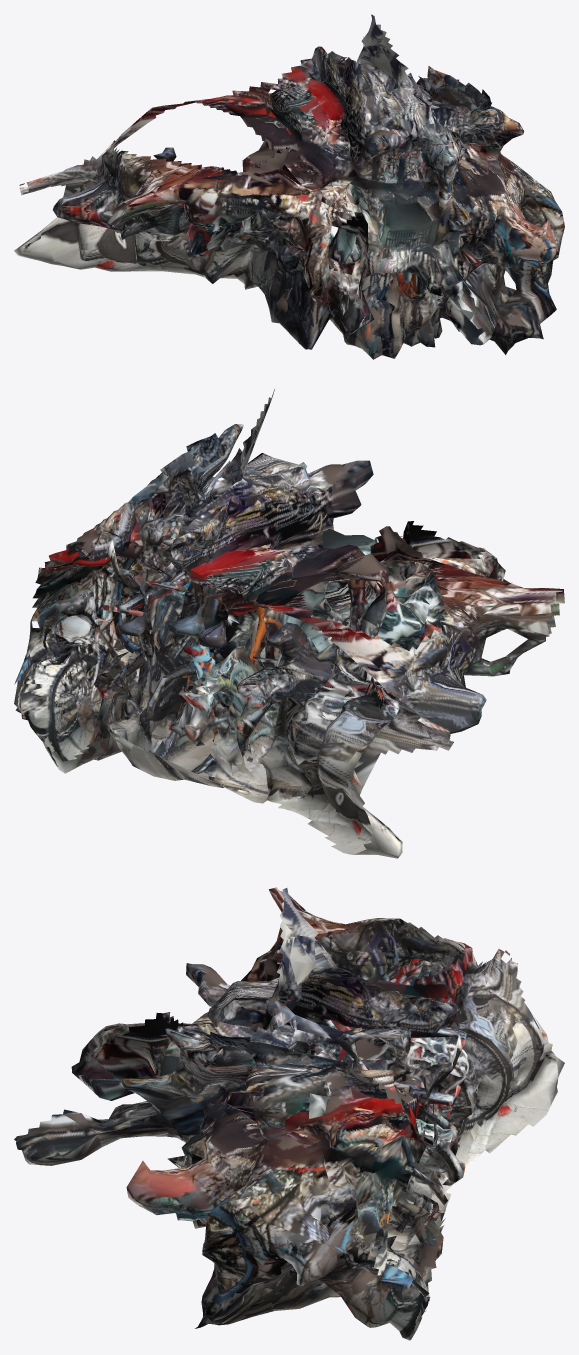
Rendered from S026_BikeRack.glb.
3 views of the same model, one above another, from view 1: azimuth 30°, elevation 25°; view 2: azimuth 150°, elevation 25°; view 3: azimuth 270°, elevation 25° (orthographic). The views are drawn at different scales.
Parts seen in each view (by area): view 1: S026_RETOPO; view 2: S026_RETOPO; view 3: S026_RETOPO.
Part boxes in pixels (x1,y1,x2,y2): S026_RETOPO: (14,14,564,359); S026_RETOPO: (14,389,564,858); S026_RETOPO: (14,887,564,1340).
Size of the model in its own units: 2.42 by 1.77 by 2.31.
Materials: 1 (1 with a texture image).
